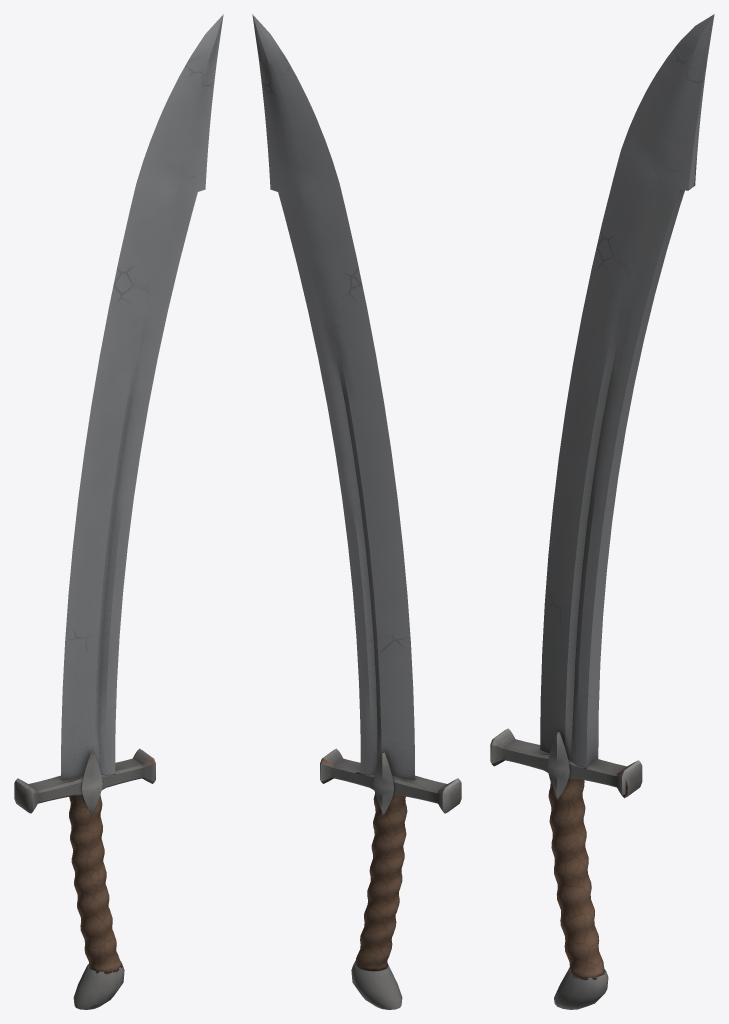
File: scimitar.glb
3 views of the same model, side by side, from view 1: azimuth 30°, elevation 25°; view 2: azimuth 150°, elevation 25°; view 3: azimuth 330°, elevation 25° (orthographic). The views are drawn at different scales.
Parts seen in each view (by area): view 1: scimitar; view 2: scimitar; view 3: scimitar.
Boxes of the visible parts, x1,y1,x2,y2 form: scimitar: (14,14,223,1009); scimitar: (252,14,461,1009); scimitar: (490,14,714,1009).
Bounding box in the file's own units: 0.4674 × 2.1 × 0.0774.
Materials: 1 (1 with a texture image).
